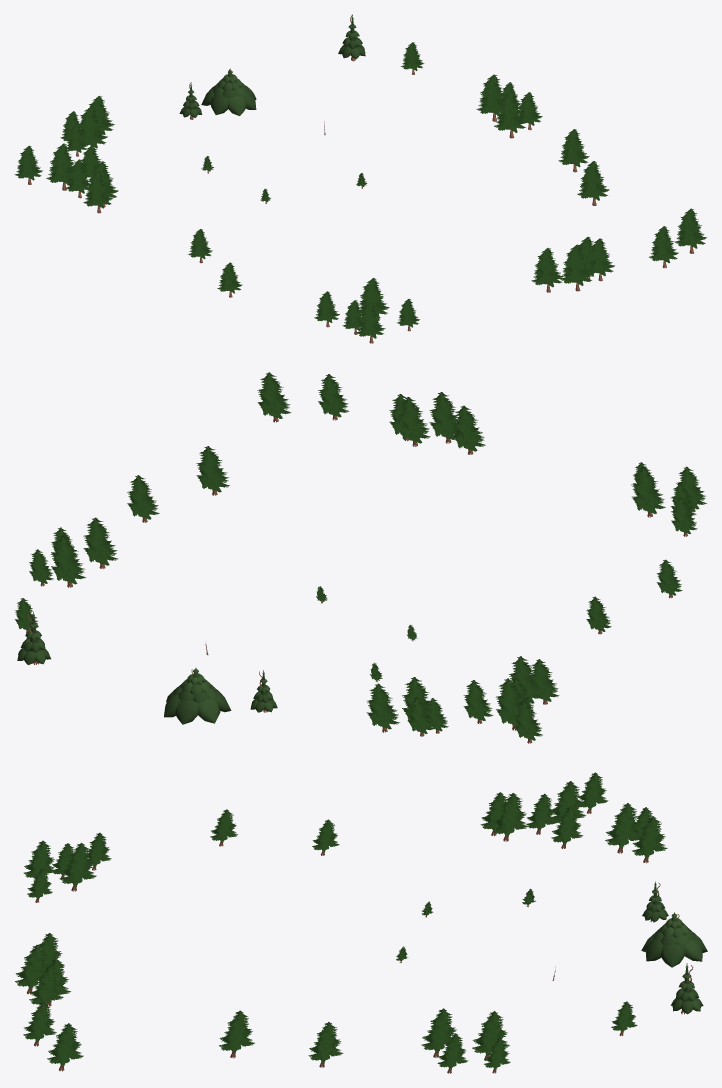
File: PineCanopy77.glb
The picture shows the model from 3 angles, top to bottom: view 1: azimuth 30°, elevation 25°; view 2: azimuth 150°, elevation 25°; view 3: azimuth 270°, elevation 25°; orthographic projection. The views are drawn at different scales.
Visible parts, largest first — view 1: Fir_tree_group_Canopy77; view 2: Fir_tree_group_Canopy77; view 3: Fir_tree_group_Canopy77.
Boxes of the visible parts, bbox=[...] form: Fir_tree_group_Canopy77: bbox=[14, 14, 706, 343]; Fir_tree_group_Canopy77: bbox=[14, 372, 706, 743]; Fir_tree_group_Canopy77: bbox=[15, 772, 707, 1073].
Size of the model in its own units: 98.31 by 12.01 by 109.
Materials: 6 (2 with a texture image).
